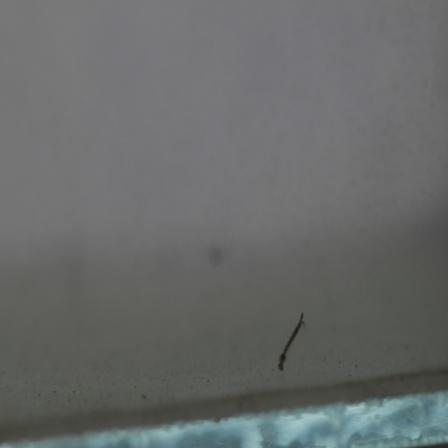Jentik-Nyamuk: (276, 309, 305, 373)
